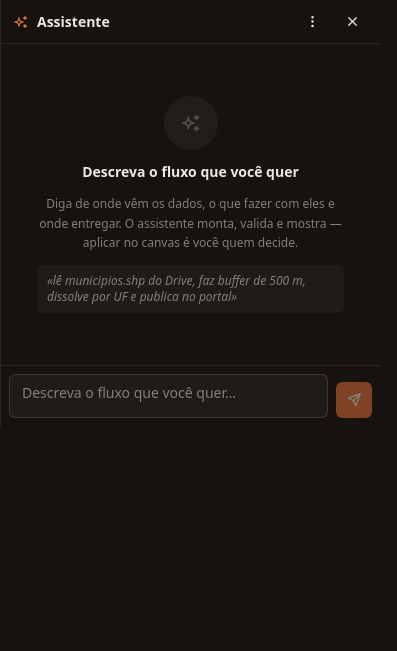
Test: gaveta do assistente › um turno não recebe os quadros do outro
Step 1. Type "monta um buffer de 500m" into the text box named "Mensagem para o assistente" → (168, 396), box [9, 374, 328, 418]
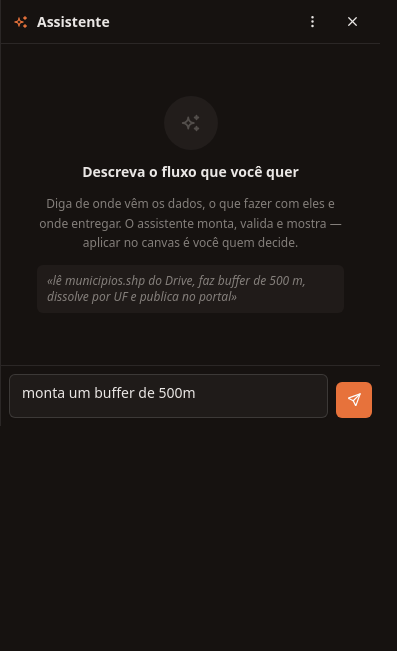
Step 2. Submit the form named "Mensagem para o assistente", box [1, 364, 380, 426]
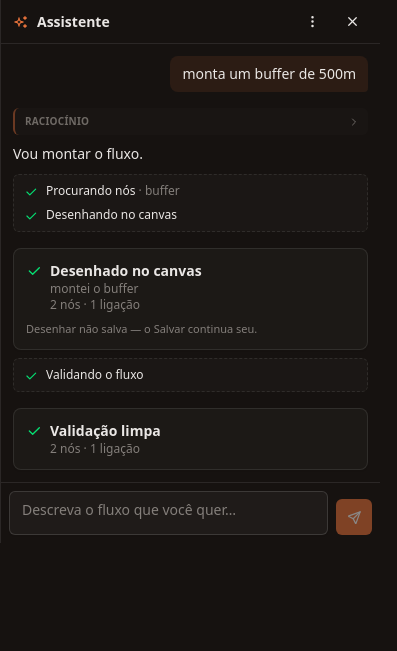
Step 3. Type "e agora?" into the text box named "Mensagem para o assistente" → (168, 513), box [9, 491, 328, 535]
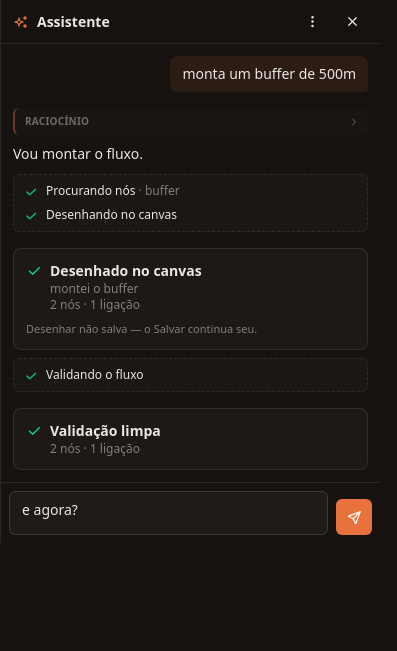
Step 4. Submit the form named "Mensagem para o assistente", box [1, 482, 380, 543]
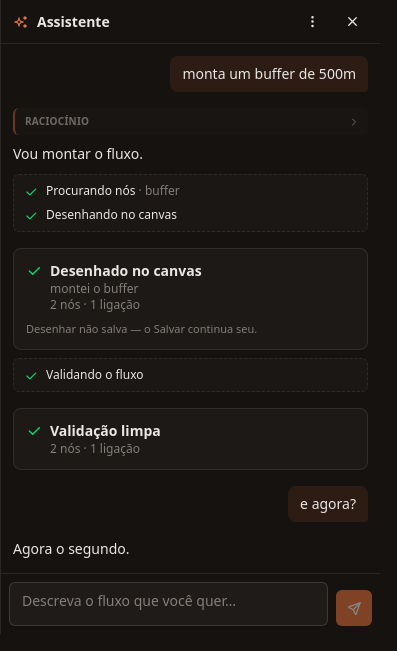
Expected: the text "Vou montar o fluxo." is shown once, [13, 144, 143, 163]
Expected: the text "Agora o segundo." is shown once, [13, 539, 130, 558]
